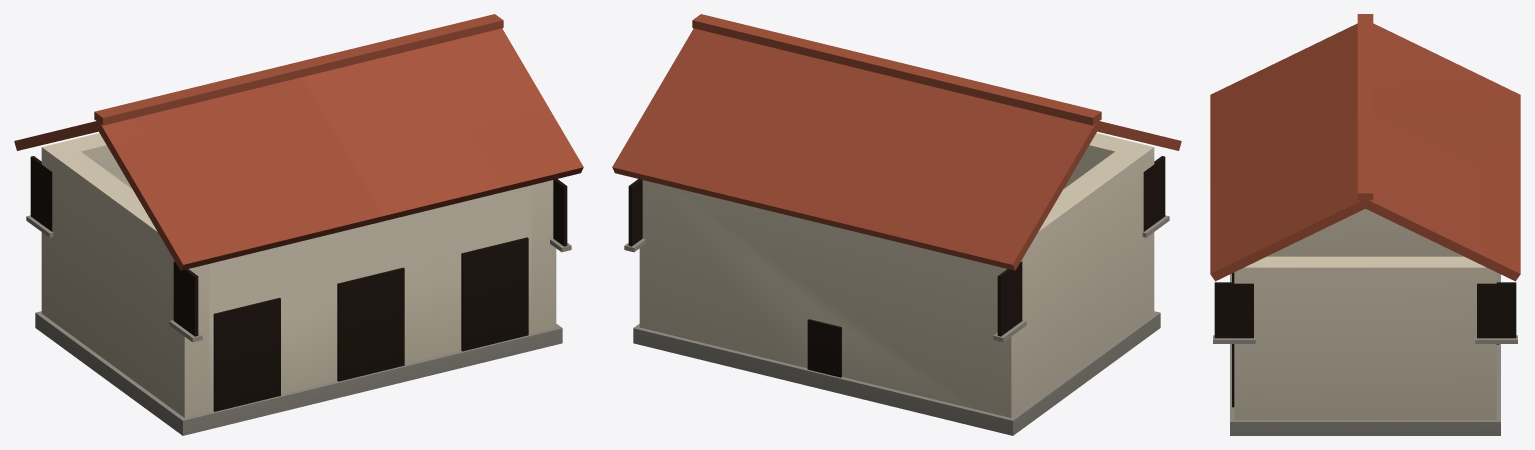
Rendered from independence_hacienda_lod1.glb.
3 renders of one model, left to right at view 1: azimuth 30°, elevation 25°; view 2: azimuth 150°, elevation 25°; view 3: azimuth 270°, elevation 25°, orthographic. The views are drawn at different scales.
Parts seen in each view (by area): view 1: GEO-Arch_independence_hacienda_LOD1; view 2: GEO-Arch_independence_hacienda_LOD1; view 3: GEO-Arch_independence_hacienda_LOD1.
Boxes of the visible parts, x1=… form: GEO-Arch_independence_hacienda_LOD1: x1=14, y1=14, x2=583, y2=435; GEO-Arch_independence_hacienda_LOD1: x1=612, y1=14, x2=1181, y2=435; GEO-Arch_independence_hacienda_LOD1: x1=1210, y1=14, x2=1520, y2=435.
Size of the model in its own units: 9.7 by 6.24 by 7.1.
